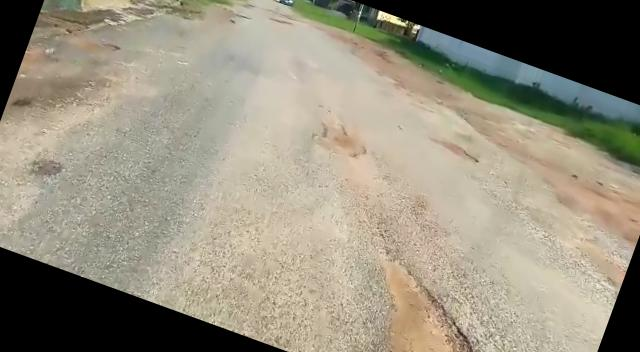pothole: (337, 242, 607, 352), (306, 116, 372, 164), (428, 134, 482, 166)
